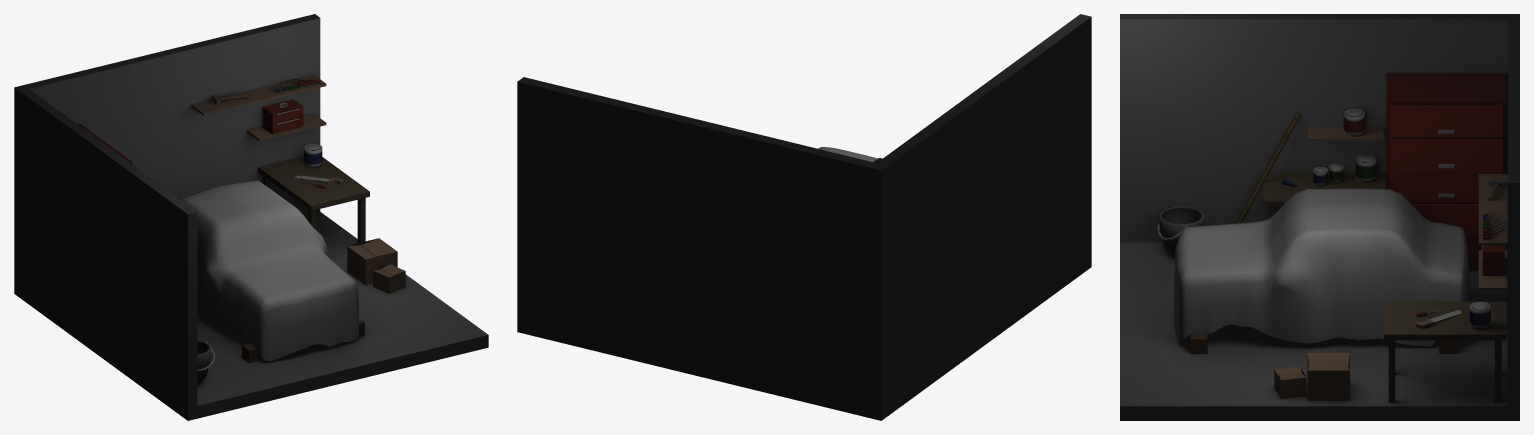
File: room.glb
3 renders of one model, left to right at view 1: azimuth 30°, elevation 25°; view 2: azimuth 150°, elevation 25°; view 3: azimuth 270°, elevation 25°, orthographic. The views are drawn at different scales.
Visible parts, largest first — view 1: garage; view 2: garage; view 3: garage.
Part boxes in pixels (bbox=[...]): garage: bbox=[14, 14, 488, 420]; garage: bbox=[517, 14, 1091, 420]; garage: bbox=[1120, 14, 1519, 420].
Bounding box in the file's own units: 425 × 279 × 425.
1 material, 1 textured.
